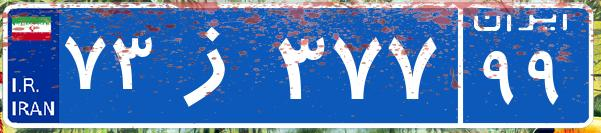3: (273, 28, 330, 110), (110, 28, 158, 105)
7: (385, 28, 445, 110), (330, 28, 385, 110), (57, 26, 110, 107)
9: (475, 38, 525, 113), (525, 38, 570, 115)
ز: (158, 15, 273, 115)
